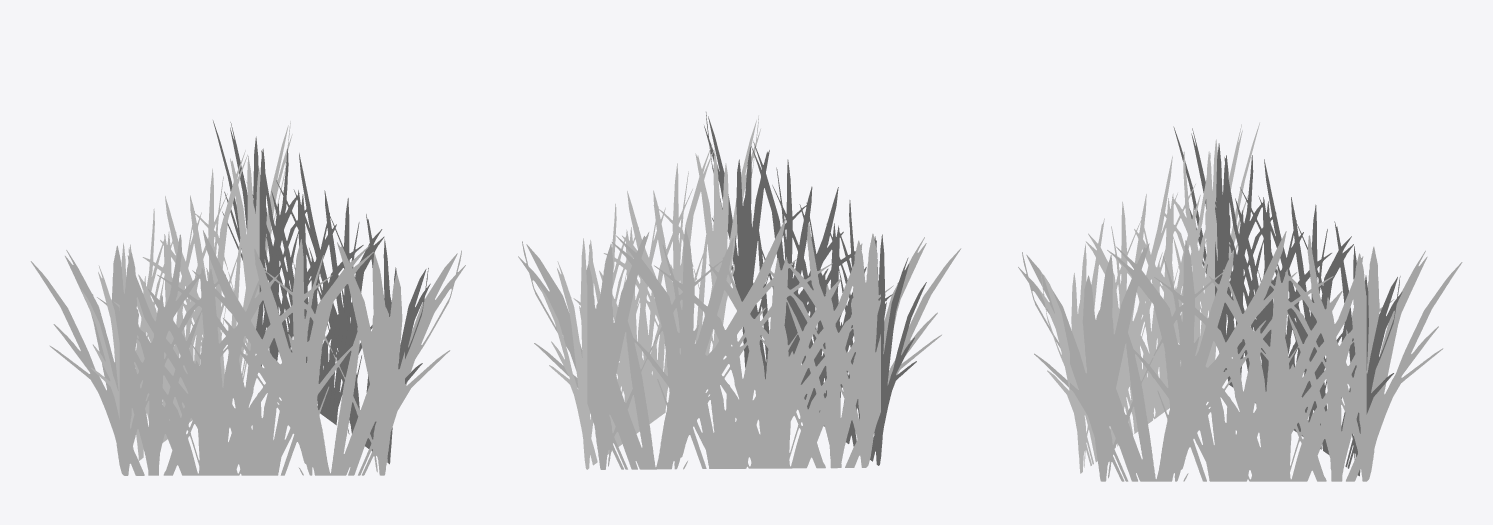
The model's file is Grama Igor.fbx.
The picture shows the model from 3 angles, left to right: view 1: azimuth 30°, elevation 25°; view 2: azimuth 150°, elevation 25°; view 3: azimuth 270°, elevation 25°; orthographic projection. The views are drawn at different scales.
Visible parts, largest first — view 1: Plane.002; view 2: Plane.002; view 3: Plane.002.
Boxes of the visible parts, bbox=[...] form: Plane.002: bbox=[30, 120, 465, 475]; Plane.002: bbox=[518, 112, 961, 469]; Plane.002: bbox=[1018, 122, 1462, 481].
Size of the model in its own units: 17.57 by 15 by 20.
